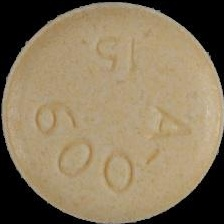64725-0009: (0, 0, 224, 224)
